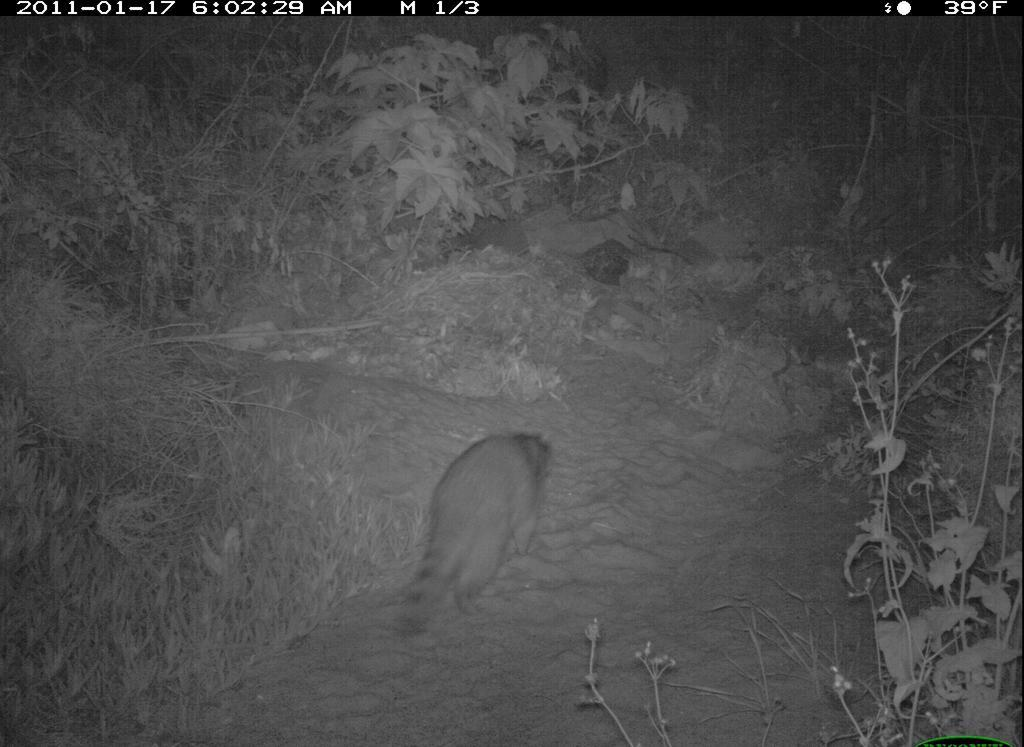raccoon: (396, 422, 561, 638)
